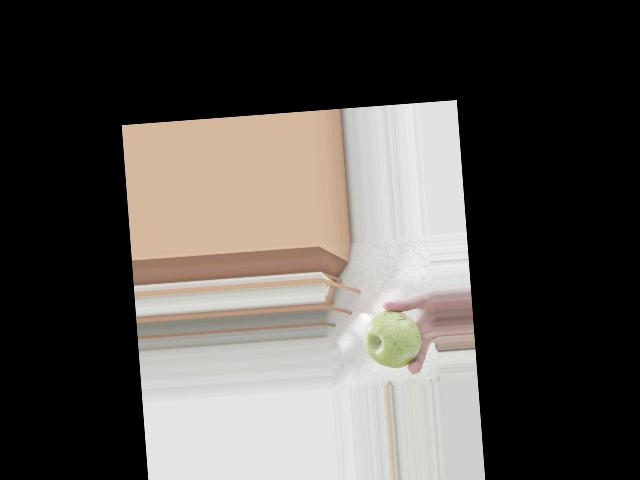apple: (361, 308, 424, 372)
